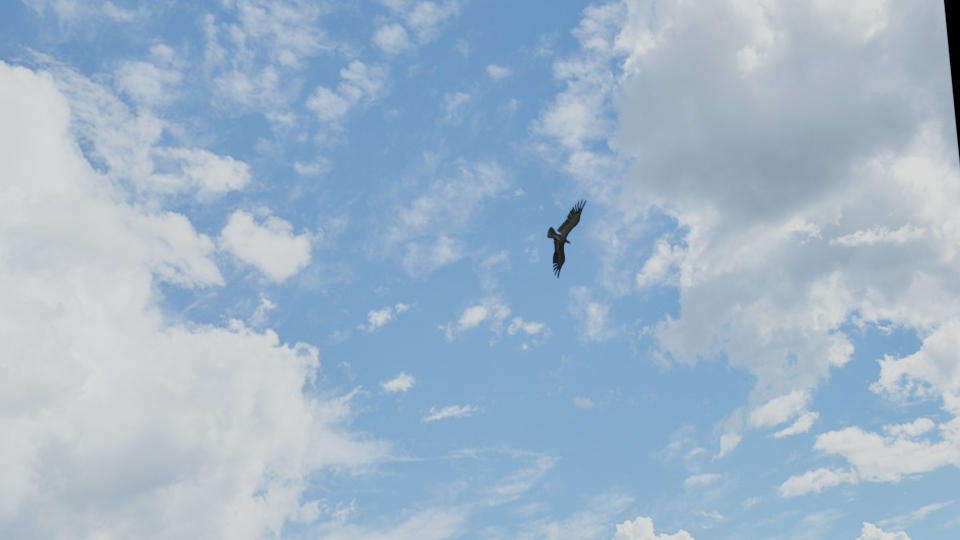bird: (547, 196, 587, 275)
